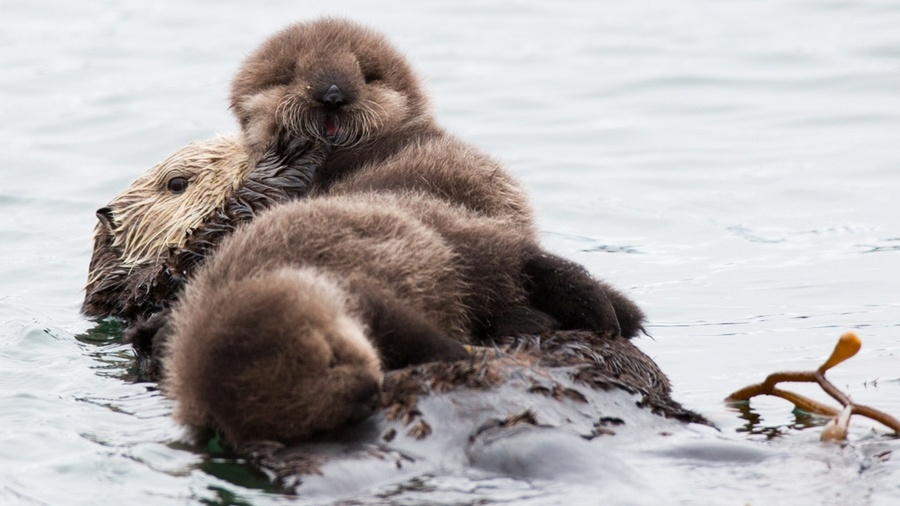otter: (154, 166, 648, 462)
